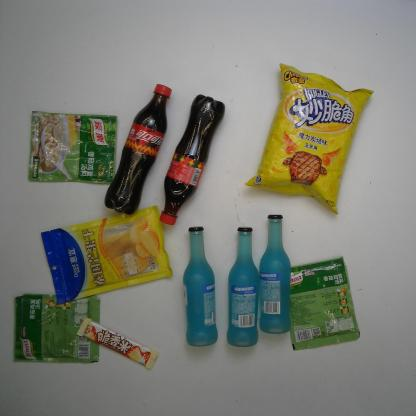Alcohol: (224, 224, 263, 349), (181, 225, 220, 348), (258, 212, 292, 336)
Chocolate: (76, 316, 160, 371)
Dried Fruit: (39, 205, 174, 305)
Drink: (103, 83, 173, 216), (158, 93, 226, 227)
Puffed Food: (244, 62, 376, 217)
Seasoner: (26, 110, 119, 187), (288, 256, 361, 350), (12, 292, 101, 365)
